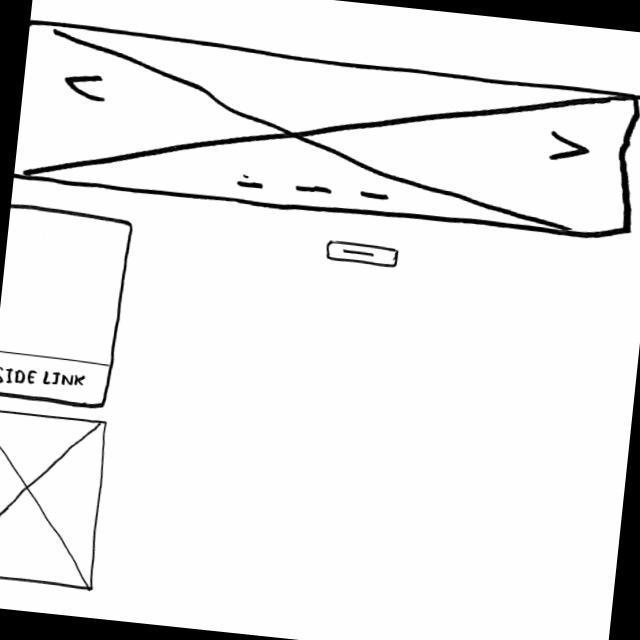container: (1, 202, 133, 411)
icon-button: (320, 239, 405, 273)
image: (13, 19, 640, 247), (1, 406, 112, 591)
label: (1, 363, 91, 395)
